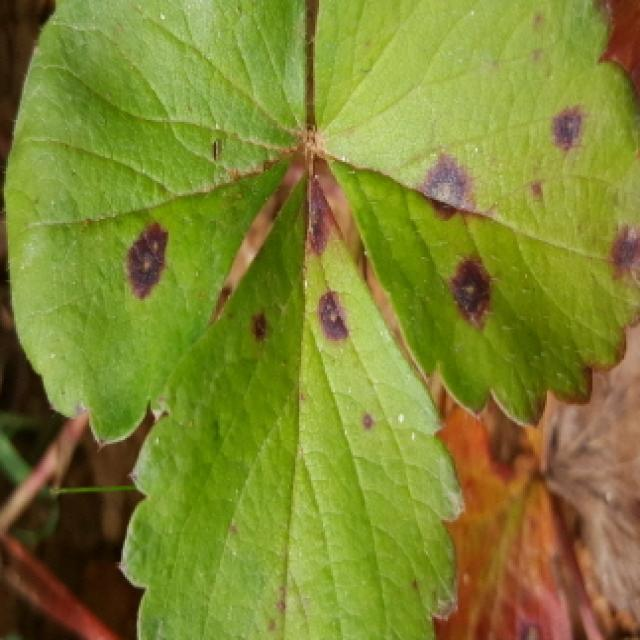Leaf Spot: (118, 165, 466, 640), (312, 0, 640, 429), (1, 0, 312, 450), (428, 368, 577, 640)
